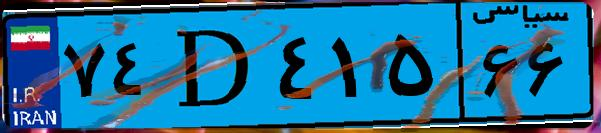1: (330, 28, 385, 110)
4: (270, 28, 330, 110), (110, 28, 158, 98)
5: (385, 28, 445, 110)
6: (475, 38, 525, 113), (525, 38, 570, 115)
7: (57, 26, 110, 100)
D: (158, 12, 270, 120)
